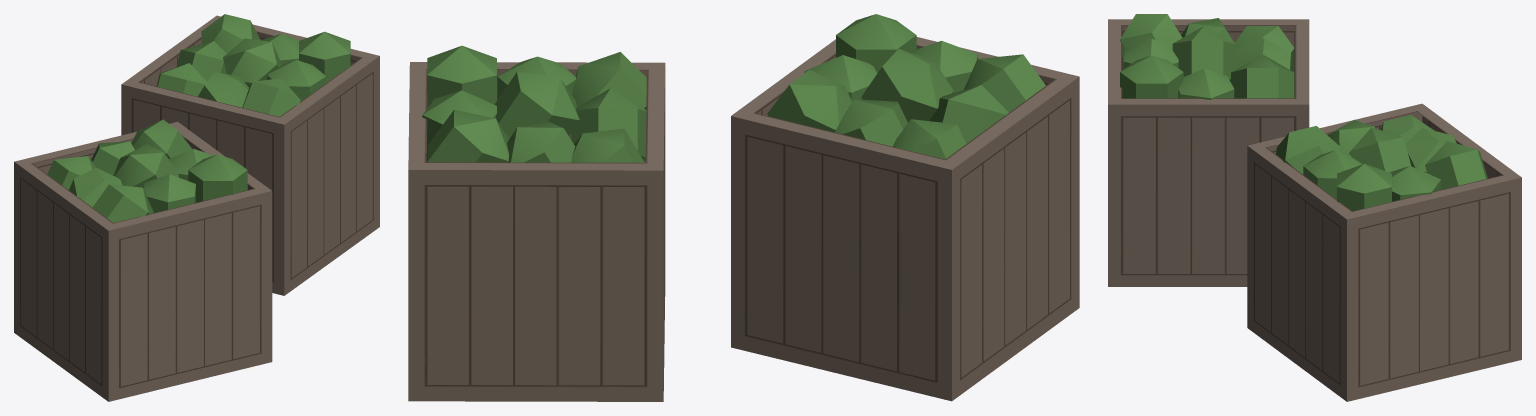
File: Pazar kutusu.fbx
3 renders of one model, left to right at view 1: azimuth 30°, elevation 25°; view 2: azimuth 150°, elevation 25°; view 3: azimuth 270°, elevation 25°, orthographic. The views are drawn at different scales.
Visible parts, largest first — view 1: Model; view 2: Model; view 3: Model.
Boxes of the visible parts, box(x1,y1,x2,y2) form: Model: box(14, 14, 379, 401); Model: box(408, 14, 1079, 401); Model: box(1108, 14, 1521, 401).
Size of the model in its own units: 84.42 by 42.41 by 74.07.
